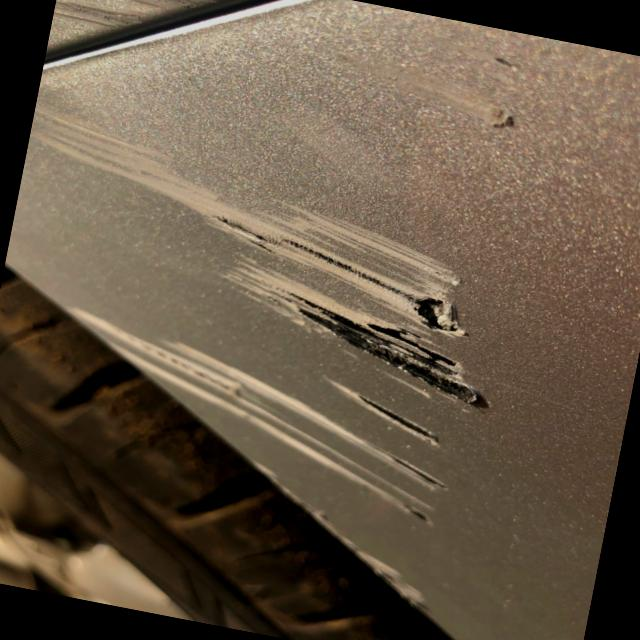Rayure: (0, 102, 549, 554)
